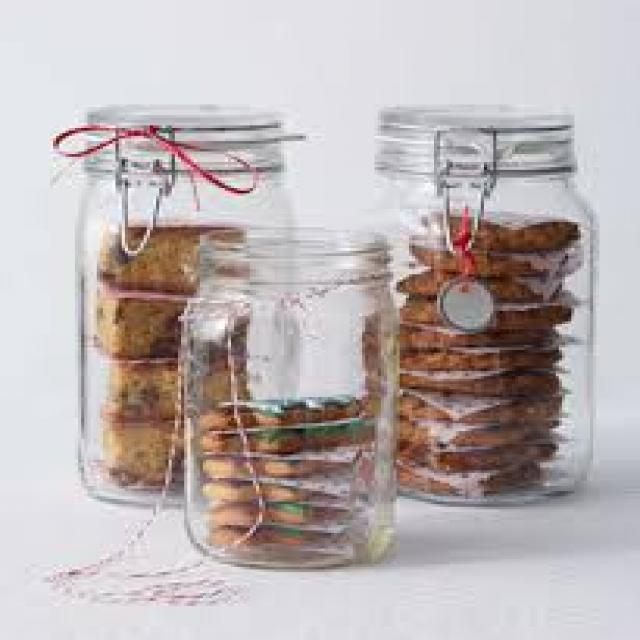organic waste: (100, 397, 247, 483), (90, 287, 247, 358), (200, 392, 365, 454), (103, 348, 244, 420), (94, 222, 240, 282), (396, 238, 574, 274), (400, 290, 568, 326), (422, 212, 578, 250), (393, 389, 559, 421), (393, 272, 562, 300), (393, 366, 556, 394), (197, 522, 337, 554), (400, 439, 556, 465), (393, 418, 556, 441), (187, 476, 328, 502), (393, 342, 565, 363), (384, 322, 562, 342), (191, 496, 337, 520), (397, 465, 543, 488), (203, 455, 346, 478)
